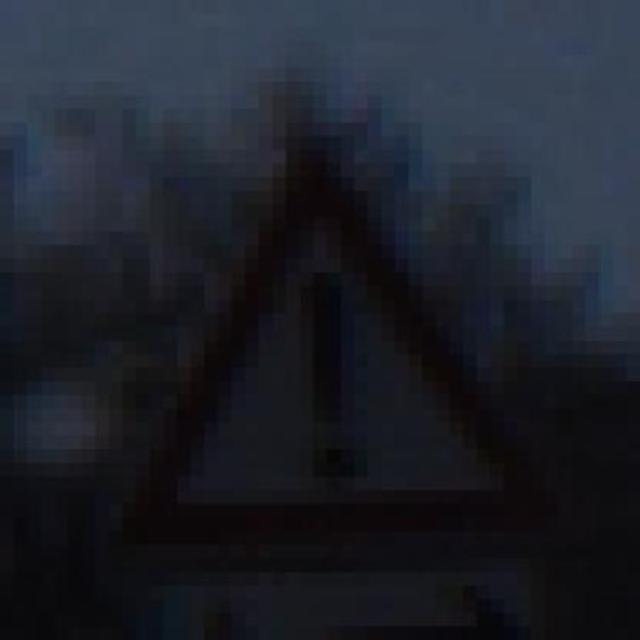Attention Please-: (77, 121, 554, 557)
